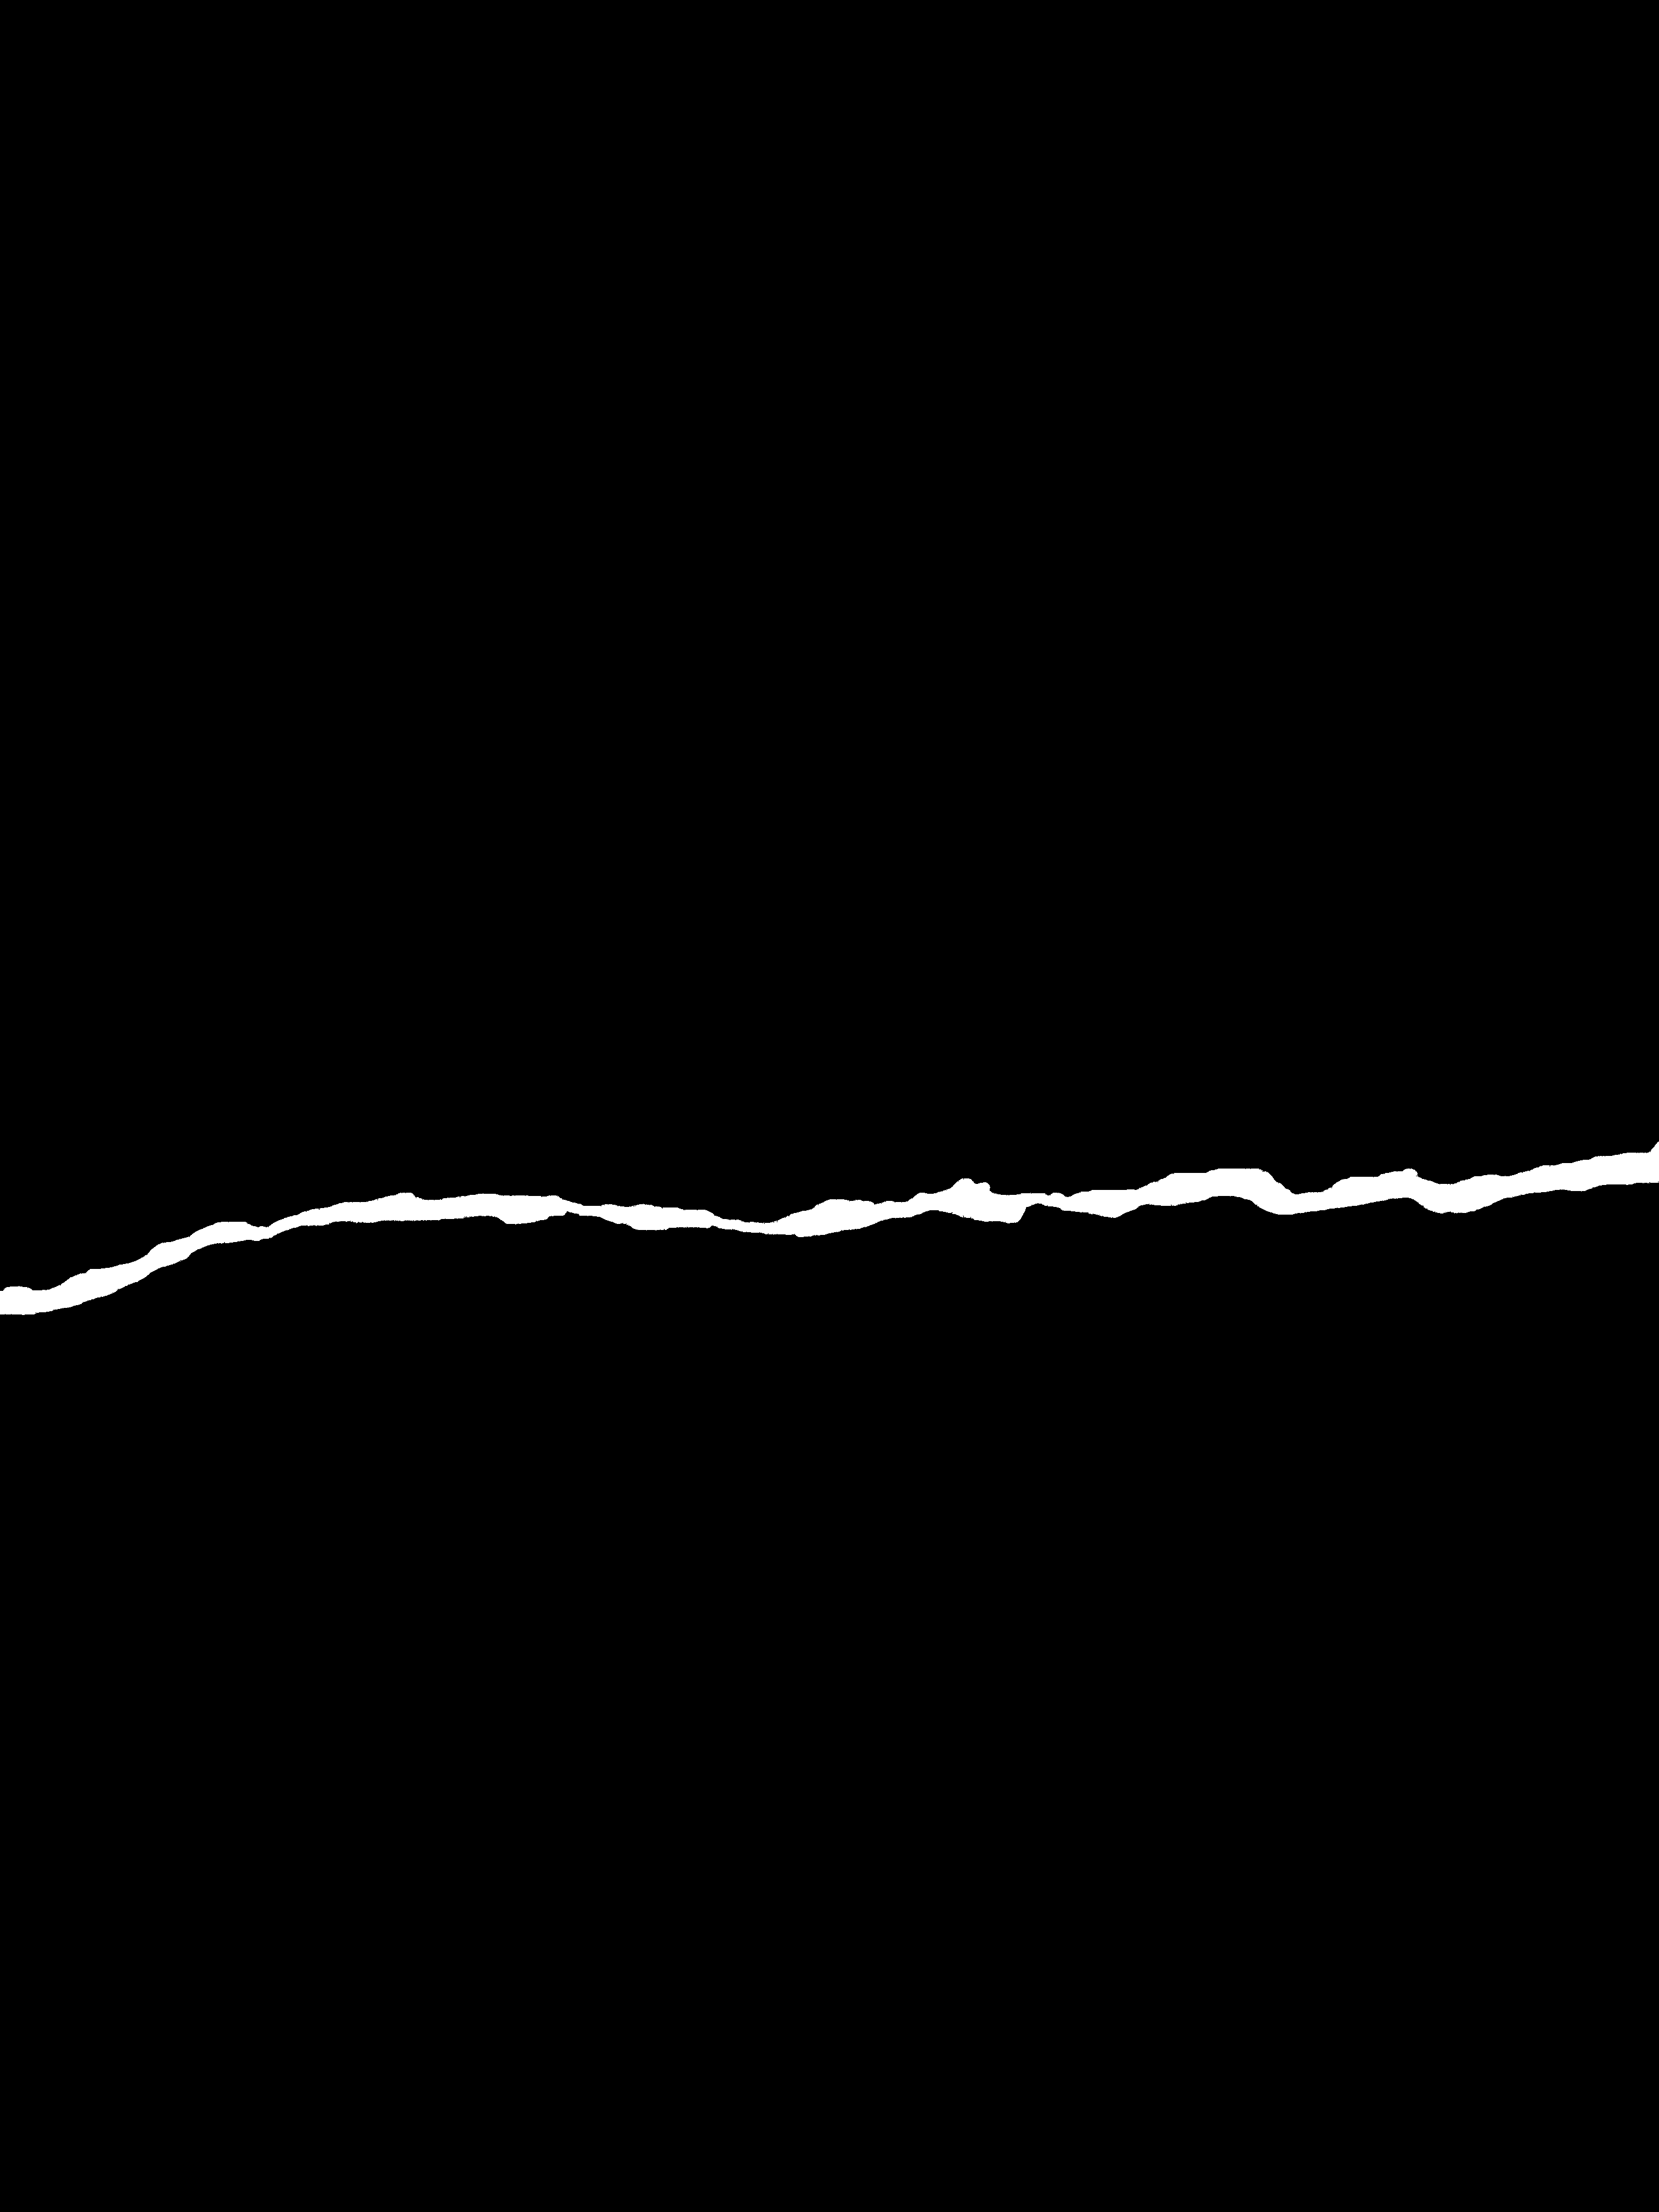Crack: (0, 1116, 1659, 1334)
